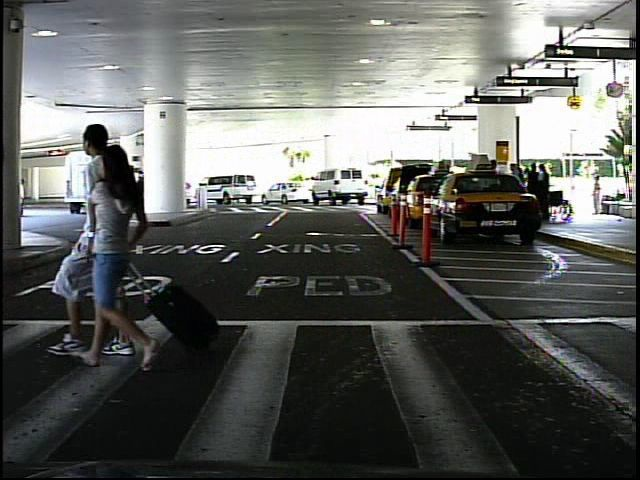person: (91, 136, 167, 376), (81, 116, 121, 363), (81, 170, 99, 220), (590, 172, 606, 218)
